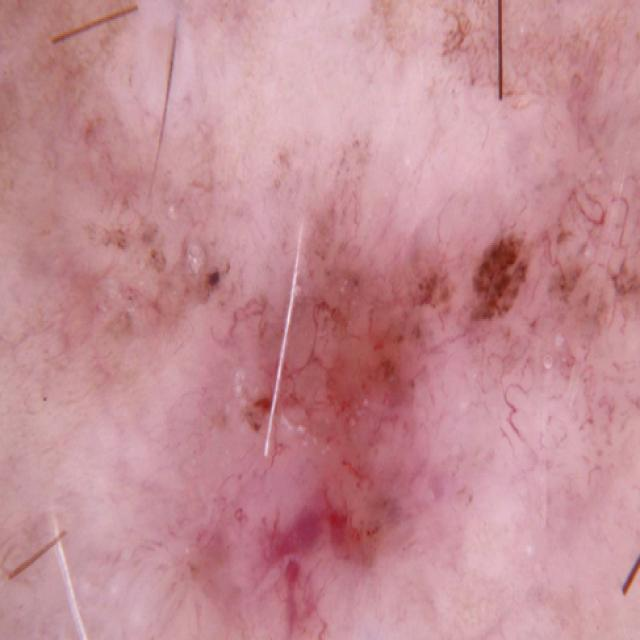Carcinoma: (131, 152, 627, 638)
